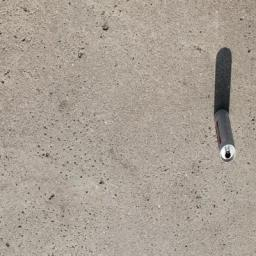FOD: (212, 47, 243, 165)
